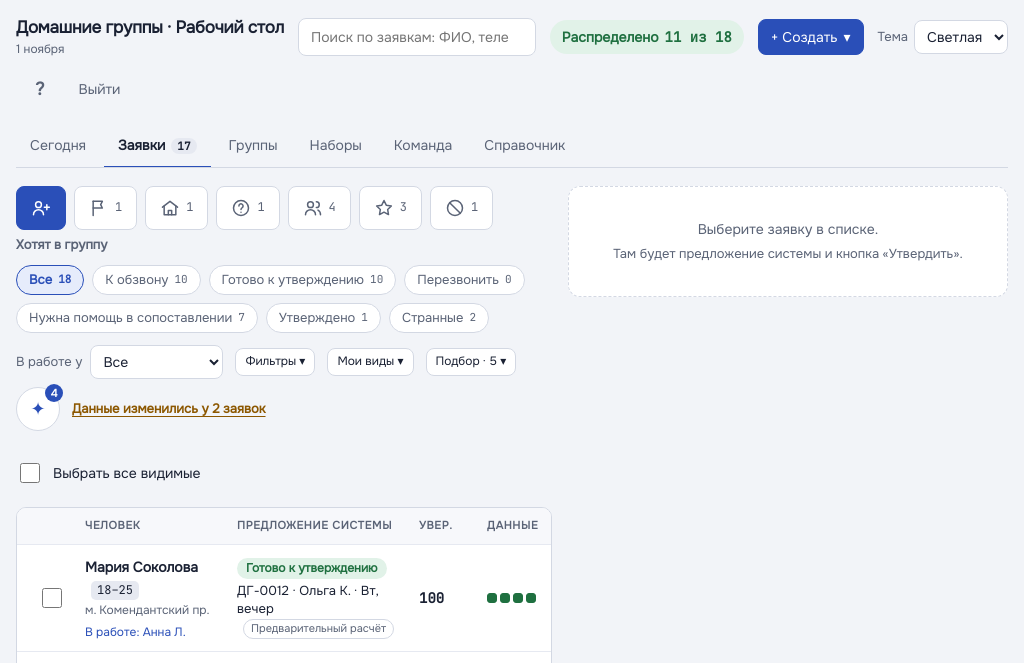
Test: «Заявки»: подбор для новых заявок › «Закрепить подбор для новых заявок» шлёт POST, пишет итог и перечитывает заявки, «Сегодня» и группы
The width and height of the screenshot is (1024, 663).
What coordinates should you click on to do the following:
click the button "Подбор · 5 ▾"
I would click on:
 (471, 362)
Its box is 426,348 -> 516,376.
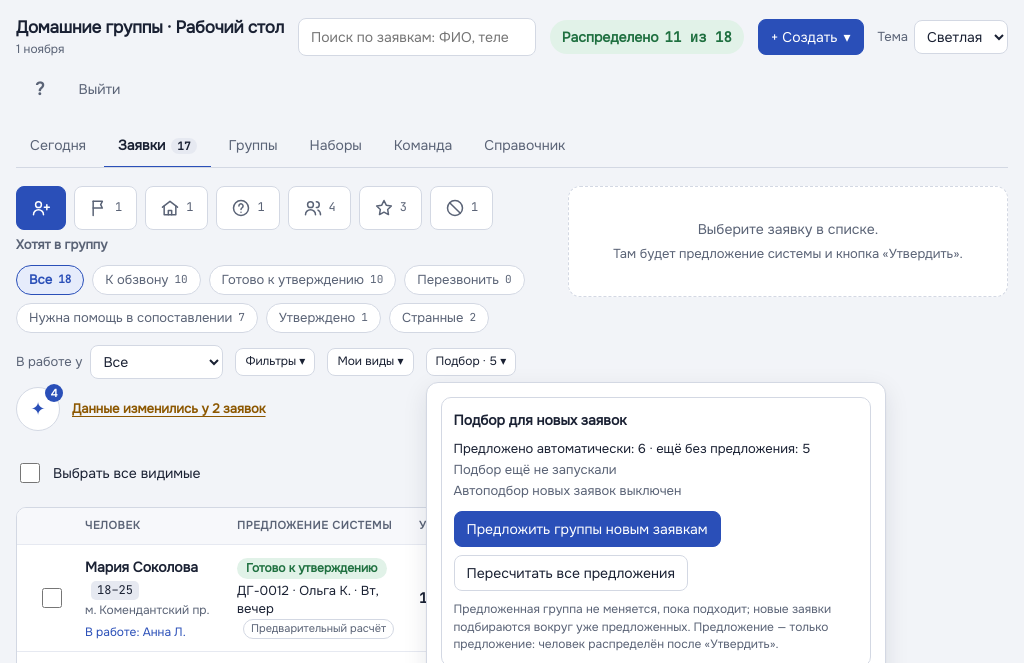
What coordinates should you click on to do the following:
click the button "Предложить группы новым заявкам"
I would click on:
 (587, 529)
Its box is 454,511 -> 721,547.
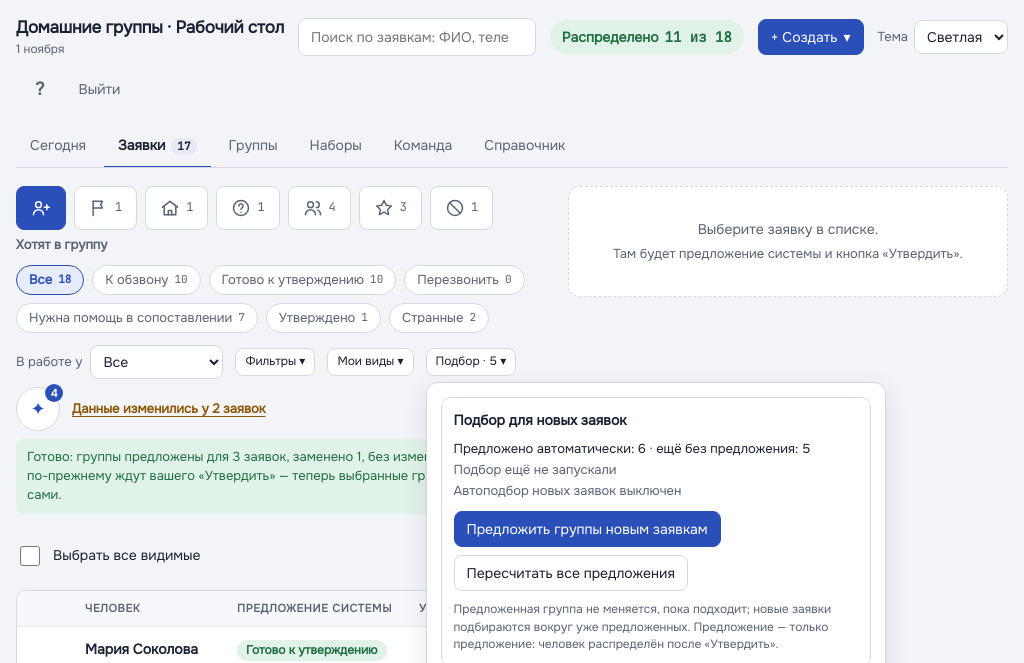
Expected: the text "Готово: группы предложены для 3 заявок, заменено 1, без изменений 7. Заявки по-прежнему ждут вашего «Утвердить» — теперь" is shown, 27,448 -> 539,503
